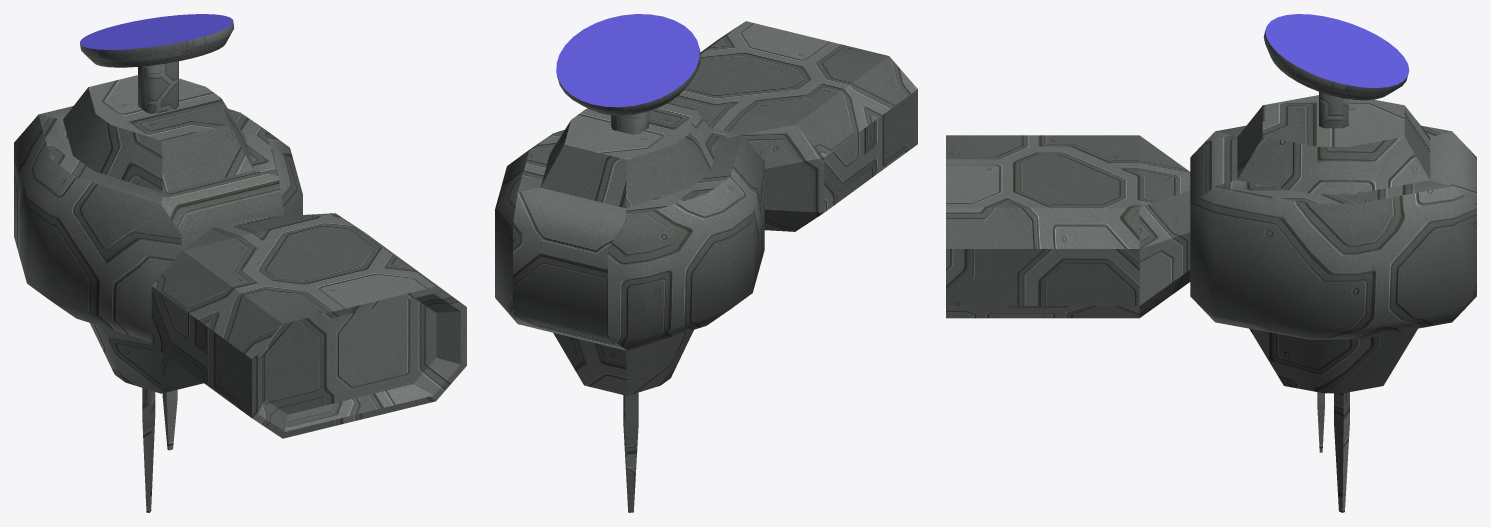
The model's file is sattelite.fbx.
The picture shows the model from 3 angles, left to right: view 1: azimuth 30°, elevation 25°; view 2: azimuth 150°, elevation 25°; view 3: azimuth 270°, elevation 25°; orthographic projection. The views are drawn at different scales.
Visible parts, largest first — view 1: engine, Sattelite, sat_solar, spikes; view 2: Sattelite, engine, sat_solar, spikes; view 3: Sattelite, engine, sat_solar, spikes.
Part boxes in pixels (x1,y1,x2,y2): engine: [151, 213, 466, 438]; Sattelite: [14, 75, 302, 393]; sat_solar: [80, 14, 234, 113]; spikes: [142, 388, 177, 512]; Sattelite: [495, 103, 764, 395]; engine: [668, 21, 917, 231]; sat_solar: [556, 14, 700, 134]; spikes: [623, 392, 638, 512]; Sattelite: [1190, 95, 1476, 393]; engine: [946, 135, 1190, 318]; sat_solar: [1263, 14, 1409, 128]; spikes: [1317, 392, 1349, 512].
Size of the model in its own units: 356 by 709 by 707.
